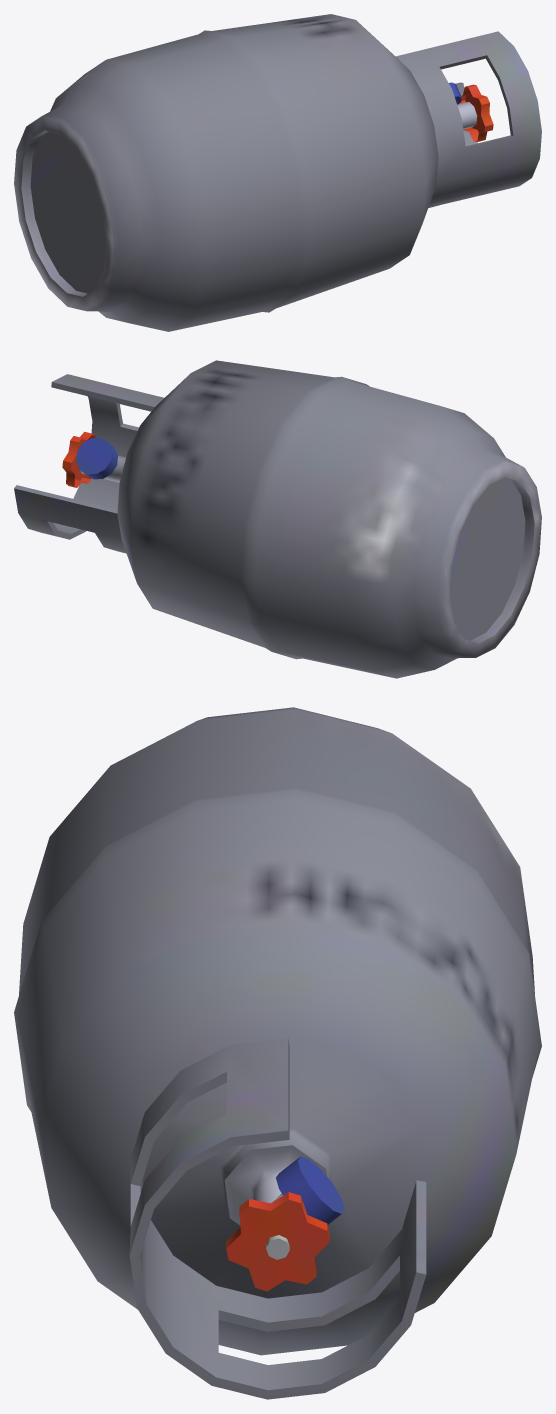
Rendered from Gas SUV.fbx.
3 renders of one model, top to bottom at view 1: azimuth 30°, elevation 25°; view 2: azimuth 150°, elevation 25°; view 3: azimuth 270°, elevation 25°, orthographic. The views are drawn at different scales.
Visible parts, largest first — view 1: Gas SUV; view 2: Gas SUV; view 3: Gas SUV.
Part boxes in pixels (<box>): Gas SUV: <box>14,14,541,331</box>; Gas SUV: <box>14,360,541,678</box>; Gas SUV: <box>14,707,541,1399</box>.
Size of the model in its own units: 0.418 by 0.239 by 0.239.
